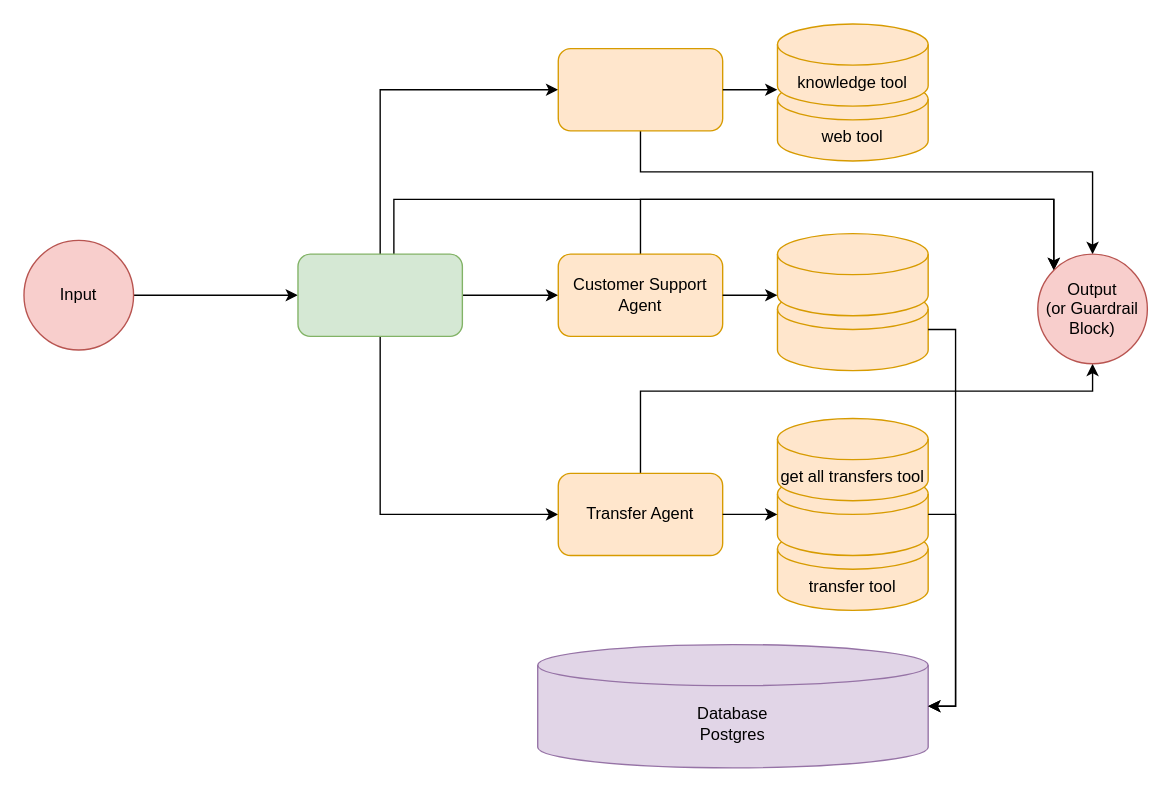
Some shapes in this 1171 by 792 pixel diagram are drawn without their labels. Here are the shapes that lost their labels. From the top down, the centre of each, then its label:
At point (640, 89): "Knowledge Agent".
At point (379, 294): "Router".
At point (852, 274): "slack tool".
At point (852, 329): "customer snapshot tool".
At point (852, 514): "get last transfer tool".
